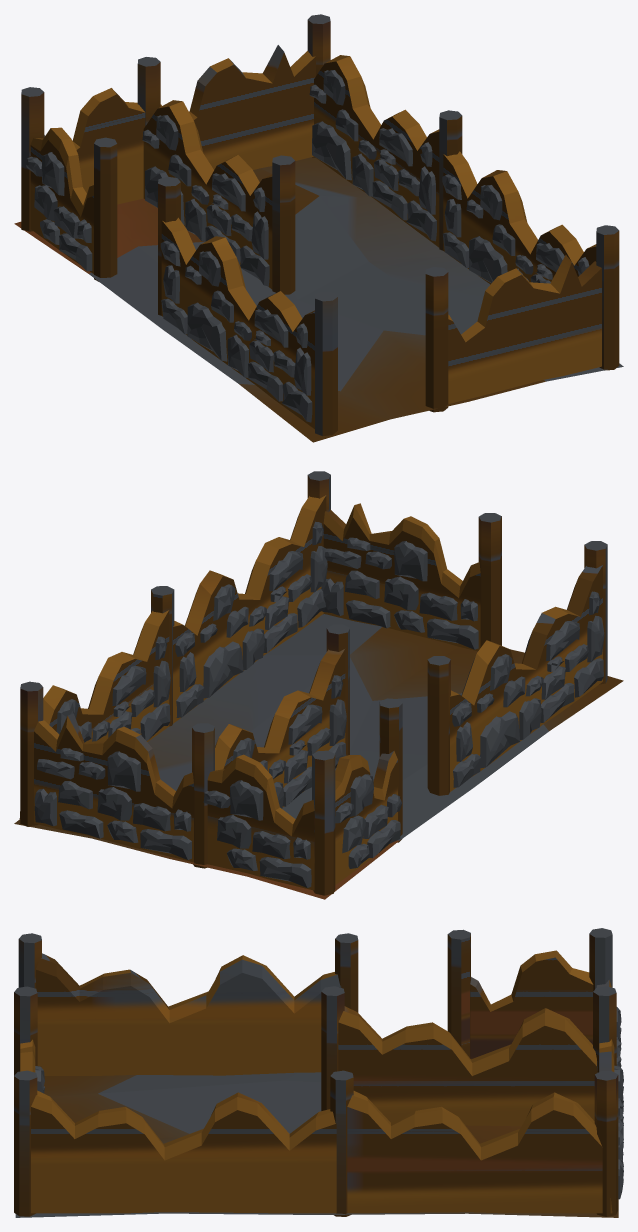
File: HauseMediumRuin.obj
The picture shows the model from 3 angles, top to bottom: view 1: azimuth 30°, elevation 25°; view 2: azimuth 150°, elevation 25°; view 3: azimuth 270°, elevation 25°; orthographic projection.
Parts seen in each view (by area): view 1: Cube.217; view 2: Cube.217; view 3: Cube.217.
Boxes of the visible parts, <box> form: Cube.217: <box>14,14,623,442</box>; Cube.217: <box>14,471,623,899</box>; Cube.217: <box>14,928,623,1217</box>.
Size of the model in its own units: 6.09 by 2.5 by 10.12.
